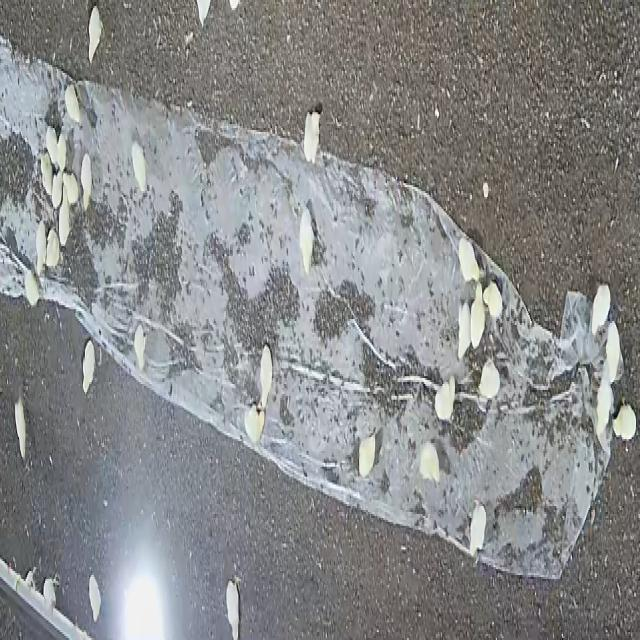broiler: (596, 374, 613, 435), (605, 321, 621, 382), (458, 236, 480, 280), (470, 284, 485, 347), (591, 284, 610, 333), (299, 207, 313, 272), (226, 575, 240, 638), (478, 358, 500, 398), (303, 110, 320, 161), (470, 502, 486, 555), (88, 6, 102, 63), (434, 378, 454, 417), (613, 404, 635, 439), (358, 433, 375, 477), (420, 441, 439, 480), (245, 406, 265, 443), (260, 345, 272, 406), (14, 394, 25, 459), (82, 339, 95, 392), (132, 142, 146, 191), (80, 154, 92, 209), (458, 301, 470, 356), (483, 280, 501, 315), (88, 575, 101, 620), (35, 221, 46, 274), (134, 325, 146, 370), (40, 152, 53, 193), (45, 228, 59, 266), (58, 197, 69, 244), (65, 85, 79, 120), (25, 272, 39, 305), (45, 126, 57, 163), (63, 171, 77, 199), (51, 171, 61, 207), (57, 132, 66, 171), (43, 579, 55, 608)
pipe: (0, 559, 92, 638)
